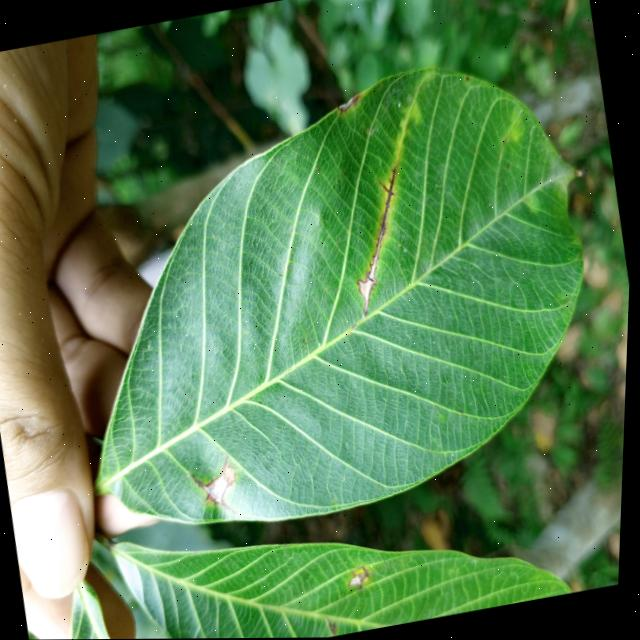Corynespora: (338, 168, 420, 315), (189, 455, 245, 521), (347, 564, 375, 594)
Leaf-Blight: (206, 475, 233, 505), (337, 98, 355, 111)
